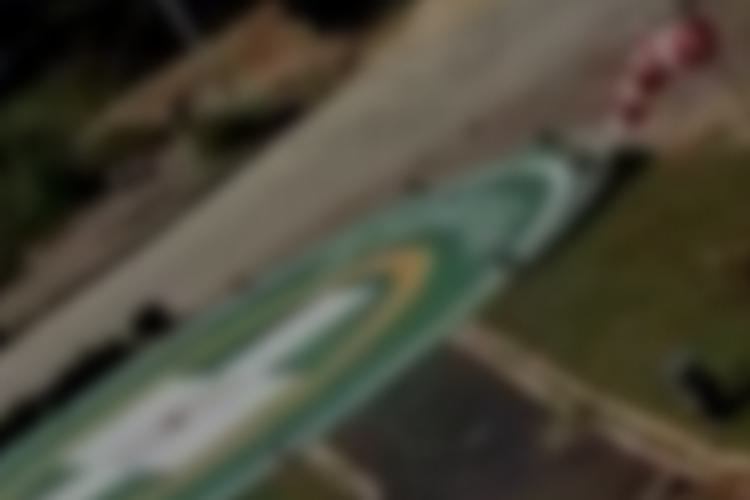Apron: (6, 218, 440, 487)
